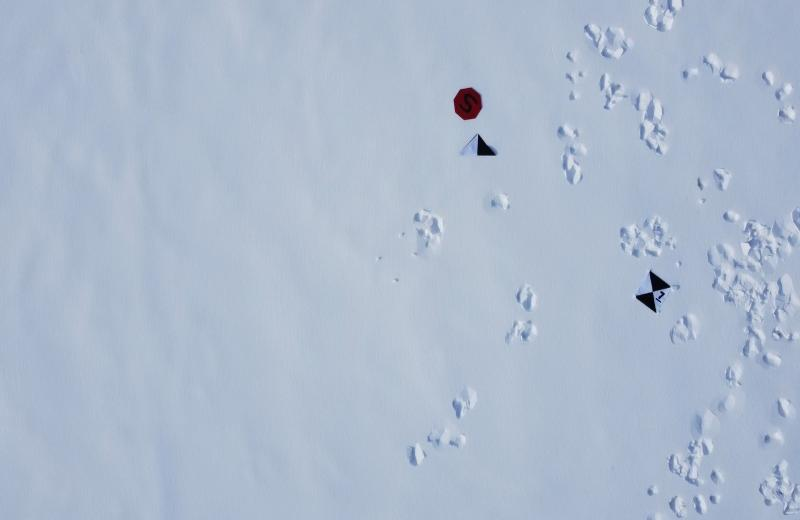Octagon: (444, 80, 487, 131)
